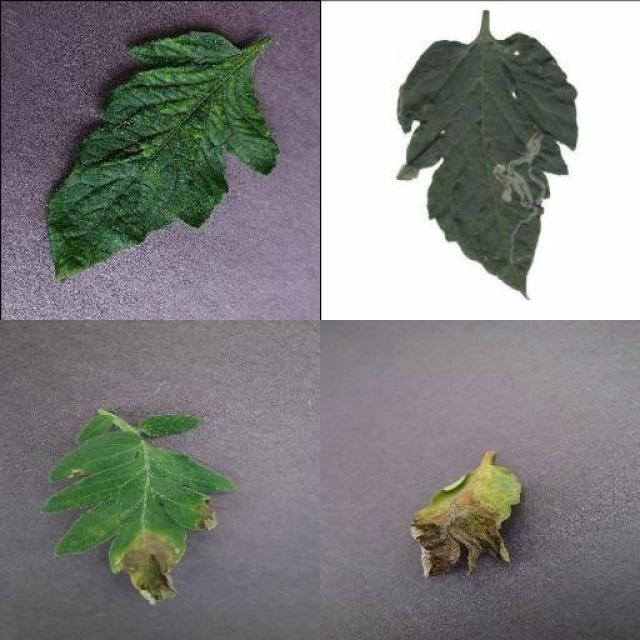Late Blight: (45, 412, 237, 608), (412, 462, 522, 582)
